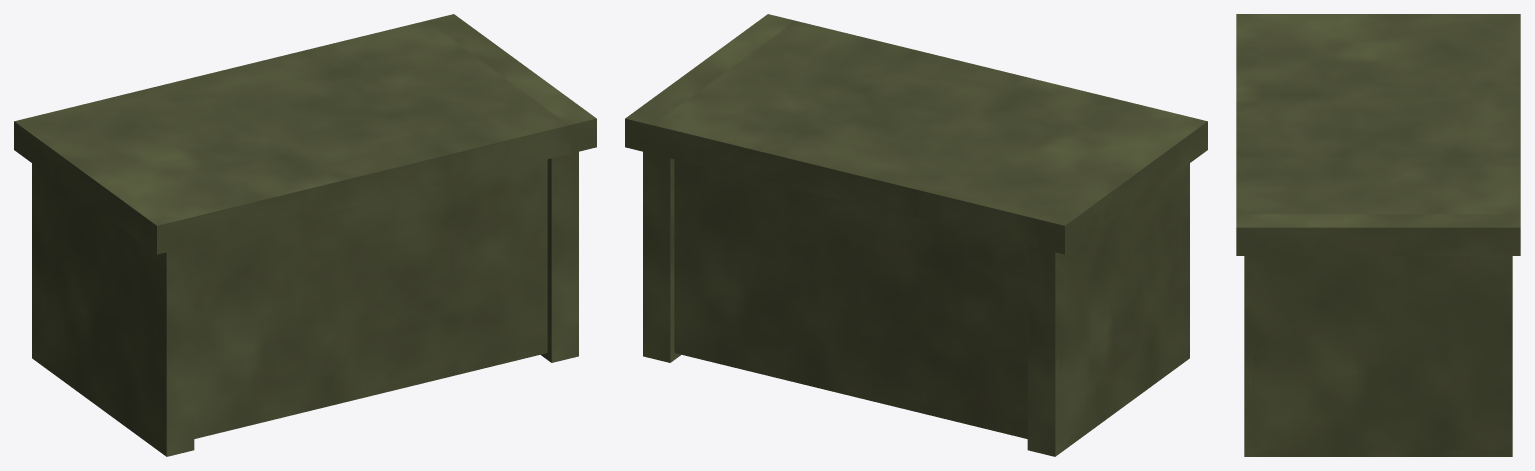
File: ammo_crate.glb
3 views of the same model, side by side, from view 1: azimuth 30°, elevation 25°; view 2: azimuth 150°, elevation 25°; view 3: azimuth 270°, elevation 25° (orthographic).
Parts seen in each view (by area): view 1: ammo_crate; view 2: ammo_crate; view 3: ammo_crate.
Part boxes in pixels (left/top/right/bottom): ammo_crate: left=14, top=14, right=596, bottom=456; ammo_crate: left=625, top=14, right=1207, bottom=456; ammo_crate: left=1236, top=14, right=1520, bottom=456.
Size of the model in its own units: 0.64 by 0.33 by 0.36.
1 material, 1 textured.
